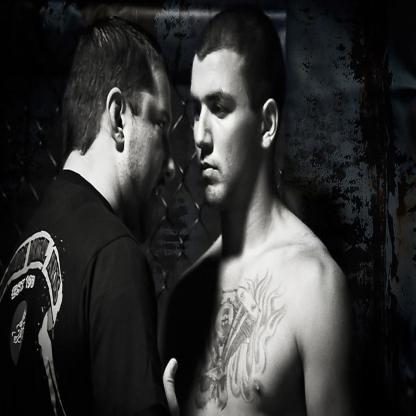face: (190, 43, 258, 207), (125, 57, 178, 247)
